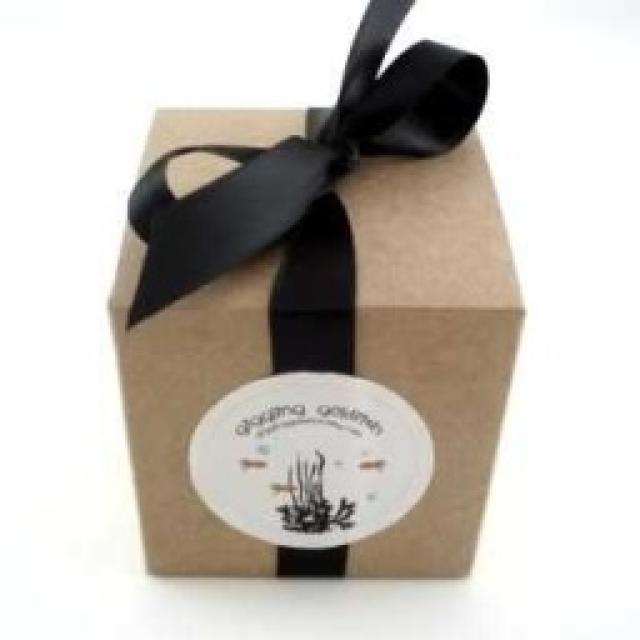box: (97, 98, 520, 600)
